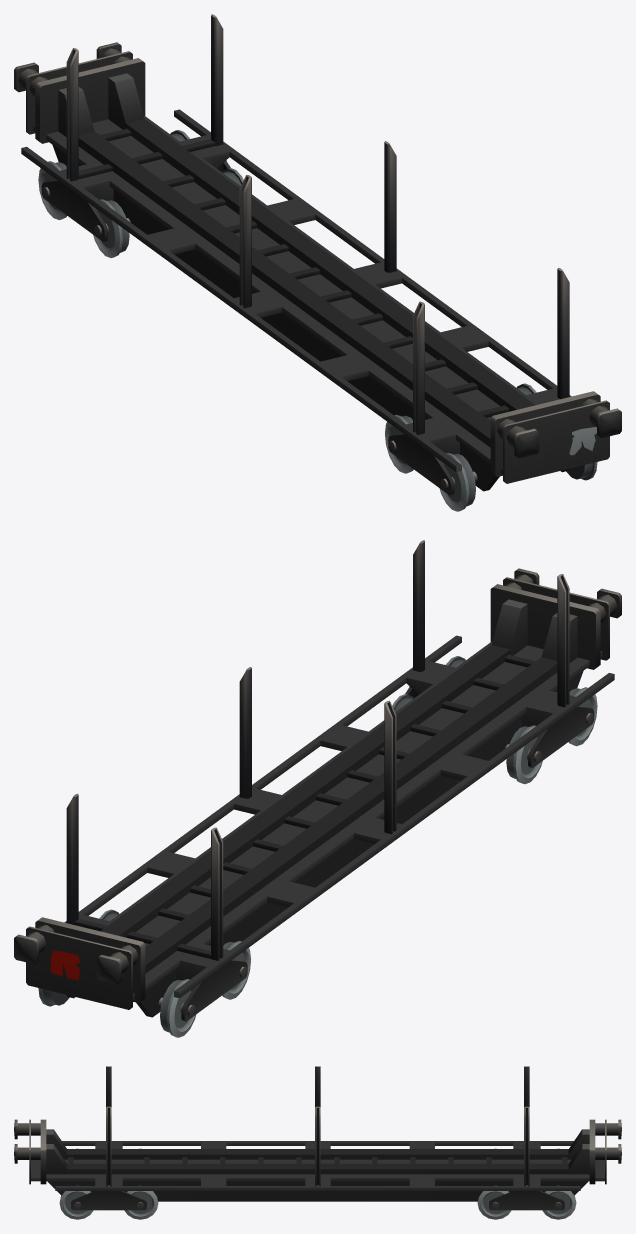
File: Train_Cart_5A.fbx
The picture shows the model from 3 angles, top to bottom: view 1: azimuth 30°, elevation 25°; view 2: azimuth 150°, elevation 25°; view 3: azimuth 270°, elevation 25°; orthographic projection. The views are drawn at different scales.
Parts seen in each view (by area): view 1: Train_Cart_5A, Train_Cart_5A_Wheel_F.R, Train_Cart_5A_Wheel_M2.R; view 2: Train_Cart_5A, Train_Cart_5A_Wheel_R.R, Train_Cart_5A_Wheel_M1.R; view 3: Train_Cart_5A, Train_Cart_5A_Wheel_M2.L, Train_Cart_5A_Wheel_R.L, Train_Cart_5A_Wheel_M1.L, Train_Cart_5A_Wheel_F.L.
Part boxes in pixels (left/top/right/bottom): Train_Cart_5A: left=14, top=14, right=621, bottom=495; Train_Cart_5A_Wheel_F.R: left=439, top=452, right=475, bottom=511; Train_Cart_5A_Wheel_M2.R: left=93, top=199, right=129, bottom=257; Train_Cart_5A: left=14, top=540, right=621, bottom=1021; Train_Cart_5A_Wheel_R.R: left=160, top=979, right=196, bottom=1037; Train_Cart_5A_Wheel_M1.R: left=506, top=725, right=542, bottom=784; Train_Cart_5A: left=14, top=1066, right=621, bottom=1210; Train_Cart_5A_Wheel_M2.L: left=477, top=1185, right=511, bottom=1219; Train_Cart_5A_Wheel_R.L: left=542, top=1185, right=576, bottom=1219; Train_Cart_5A_Wheel_M1.L: left=124, top=1185, right=158, bottom=1219; Train_Cart_5A_Wheel_F.L: left=59, top=1185, right=93, bottom=1219.
Size of the model in its own units: 2.9 by 3.3 by 16.
